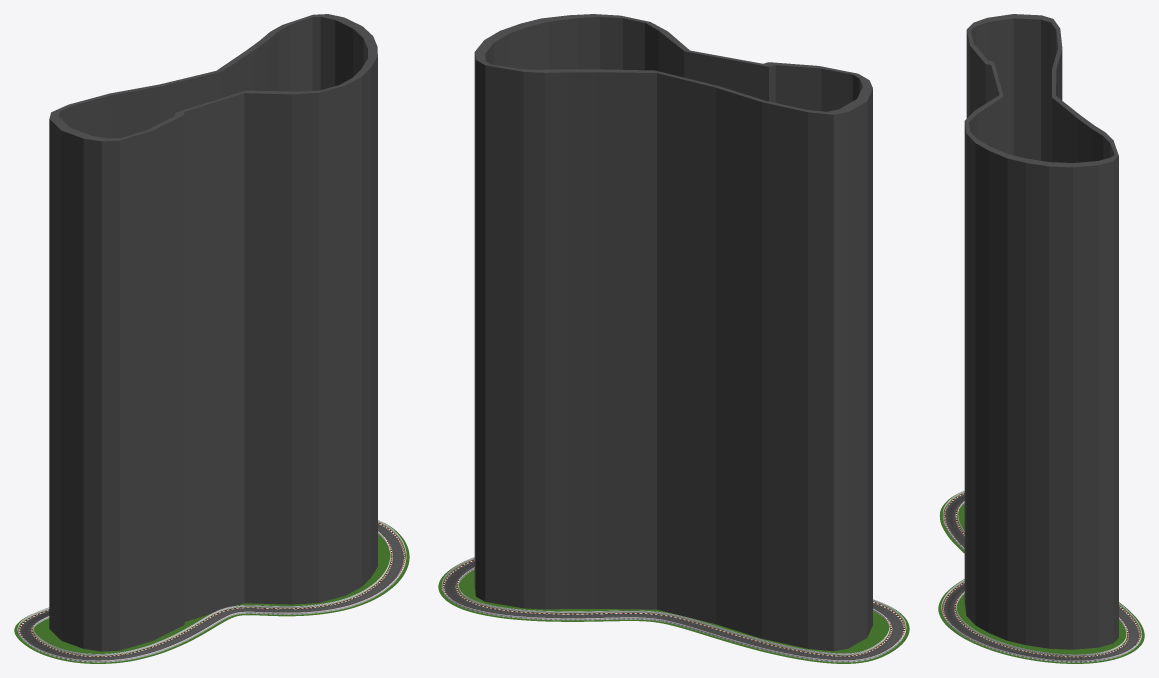
The model's file is Race_Track2.1.glb.
3 renders of one model, left to right at view 1: azimuth 30°, elevation 25°; view 2: azimuth 150°, elevation 25°; view 3: azimuth 270°, elevation 25°, orthographic. The views are drawn at different scales.
Visible parts, largest first — view 1: Plane; view 2: Plane; view 3: Plane.
Boxes of the visible parts, box(x1,y1,x2,y2) form: Plane: box(14, 14, 409, 663); Plane: box(438, 14, 909, 663); Plane: box(938, 14, 1144, 663).
Size of the model in its own units: 199 by 245 by 95.03.
6 materials, 1 textured.
